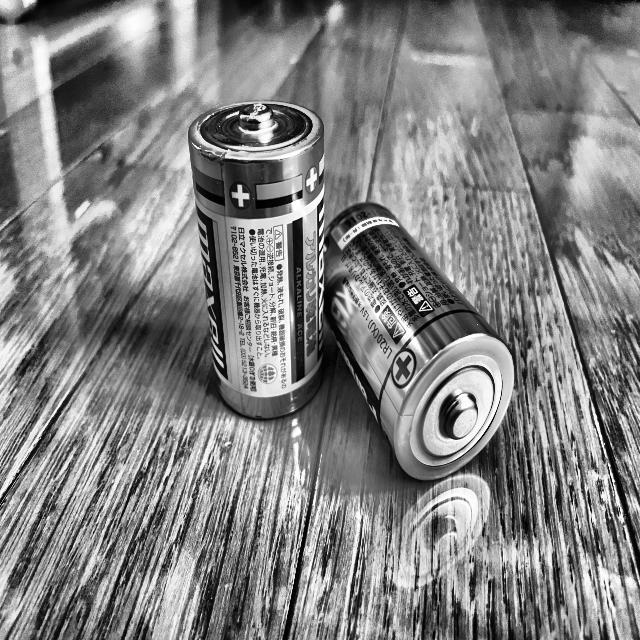drycell: (324, 203, 515, 481), (188, 101, 324, 418), (404, 285, 434, 316)
